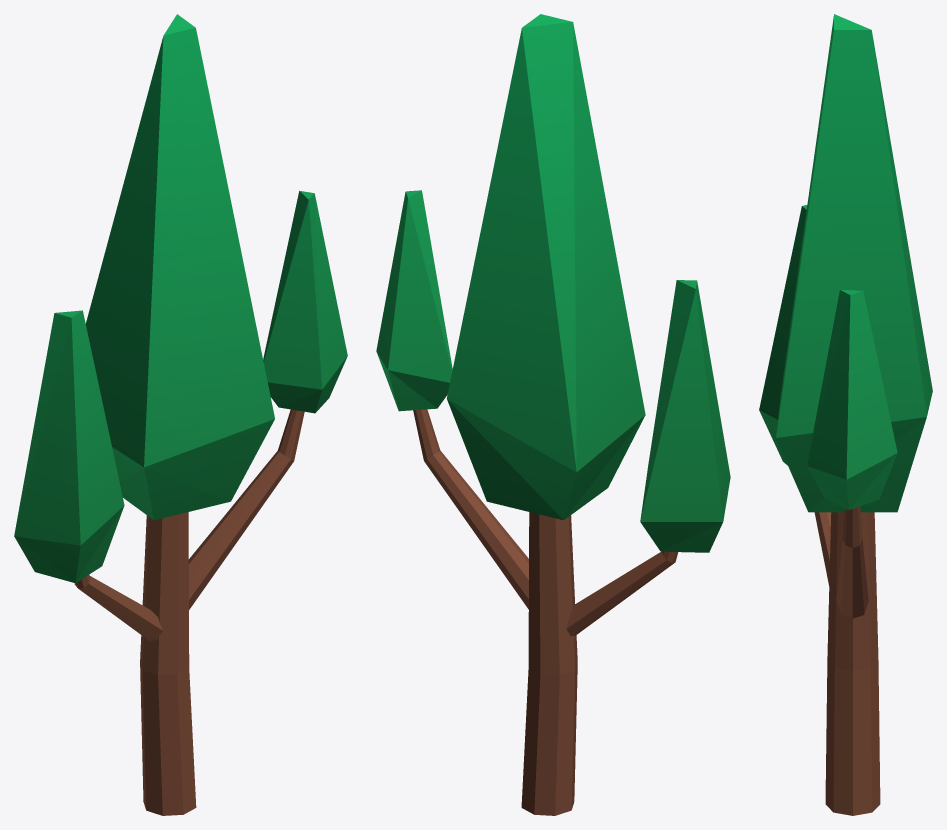
Rendered from Tree_50_gradient_green_vc.fbx.
The picture shows the model from 3 angles, left to right: view 1: azimuth 30°, elevation 25°; view 2: azimuth 150°, elevation 25°; view 3: azimuth 270°, elevation 25°; orthographic projection.
Visible parts, largest first — view 1: Tree_50_gradient_green_vc; view 2: Tree_50_gradient_green_vc; view 3: Tree_50_gradient_green_vc.
Boxes of the visible parts, <box> form: Tree_50_gradient_green_vc: <box>14,14,347,815</box>; Tree_50_gradient_green_vc: <box>376,14,730,815</box>; Tree_50_gradient_green_vc: <box>759,14,932,815</box>.
Size of the model in its own units: 118 by 259 by 52.22.
